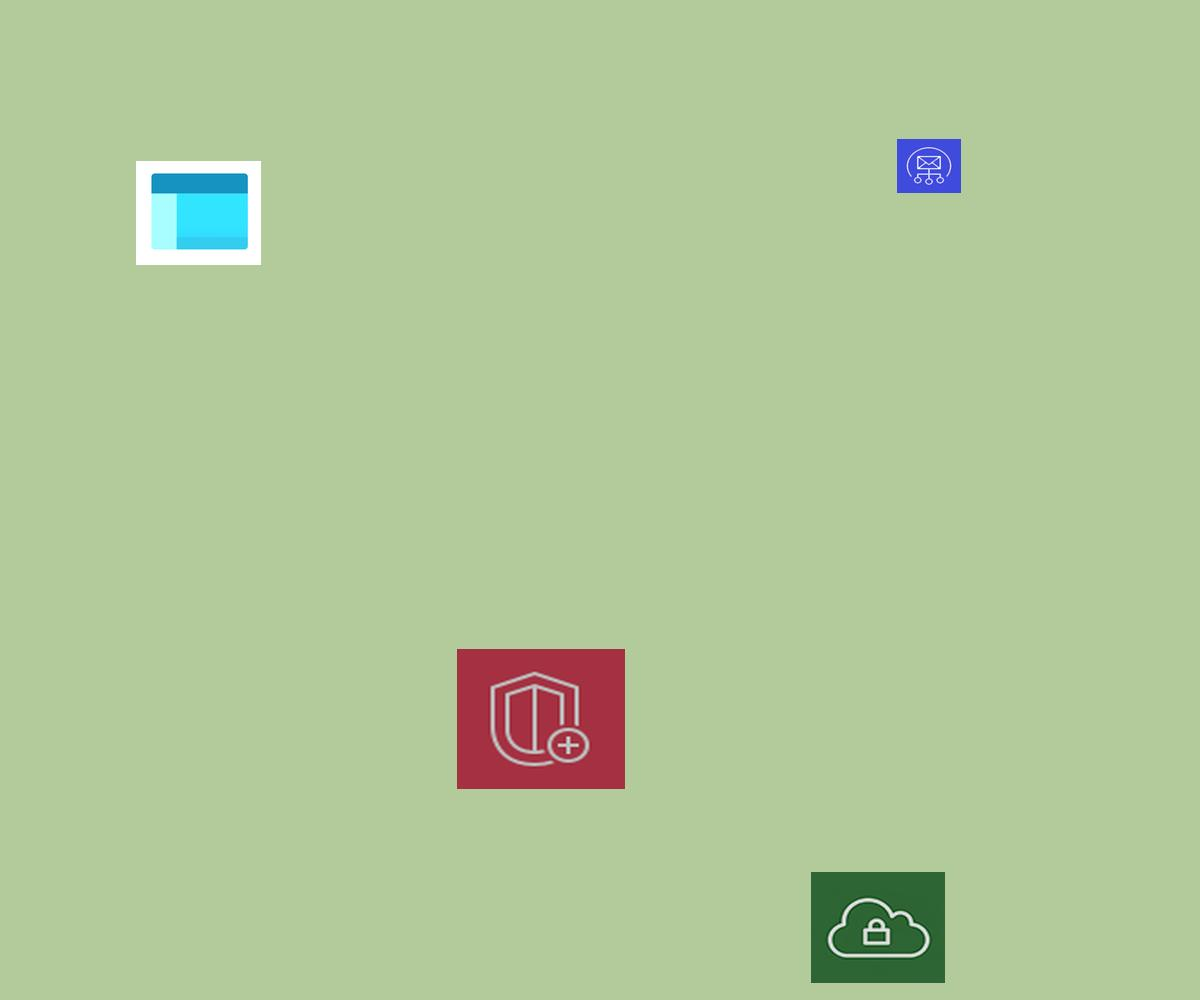AWS-Private_vpc: (811, 872, 945, 983)
AWS-Shield: (457, 649, 625, 789)
AWS-Simple-Email-Service: (897, 139, 961, 193)
Azure_management-portal: (136, 161, 261, 265)
